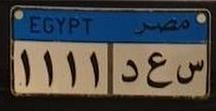1: (18, 46, 34, 87), (40, 48, 56, 88), (88, 48, 103, 89), (65, 49, 79, 88)
ain: (144, 49, 173, 91)
daal: (119, 56, 141, 86)
seen: (175, 53, 205, 87)
